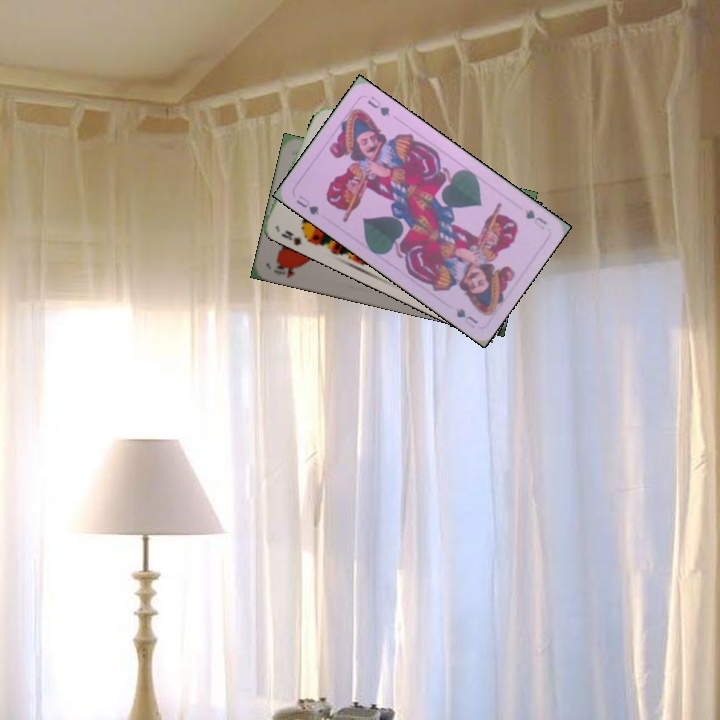GU: (292, 191, 322, 218), (521, 205, 550, 232)
HO: (270, 259, 301, 281)
S9: (277, 226, 315, 247)
